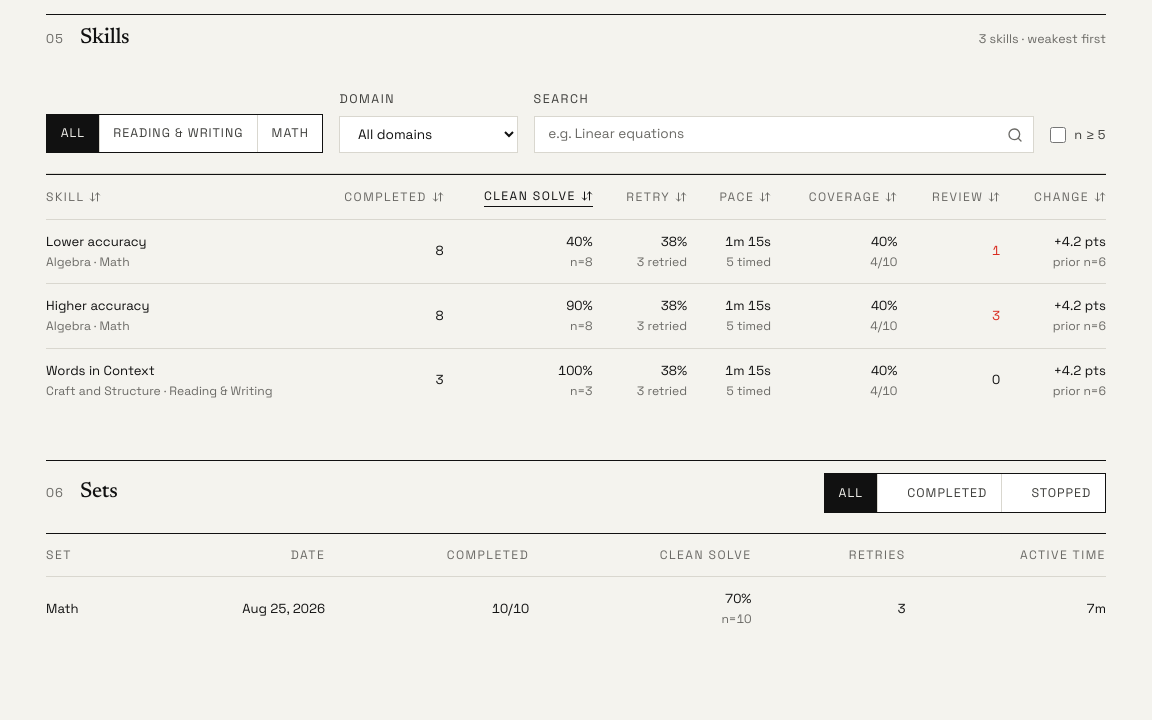
Test: ProgressPage › filters sets by status
(page scrolled)
Expected: the element "Sets" shows "Math", left=46, top=600, right=79, bottom=617
Click the button "Stopped" at (1061, 493), box left=1018, top=474, right=1105, bottom=512
(page scrolled)
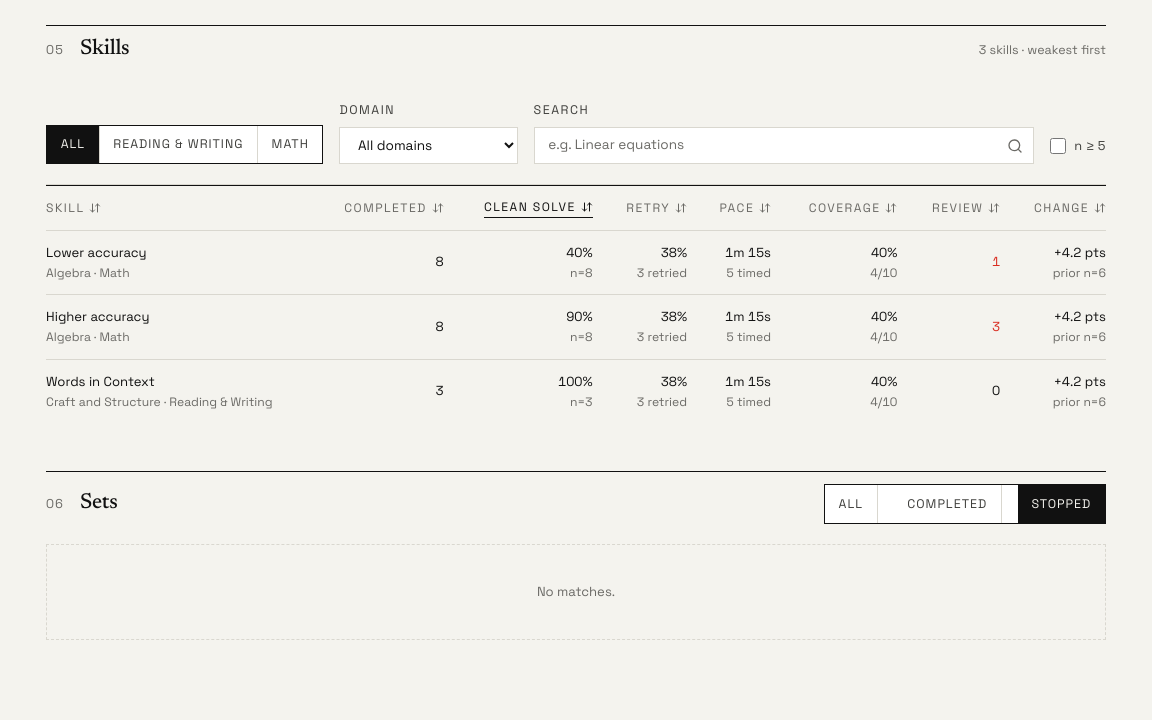
Result: the element "Sets" shows "No matches." at left=537, top=583, right=615, bottom=600
